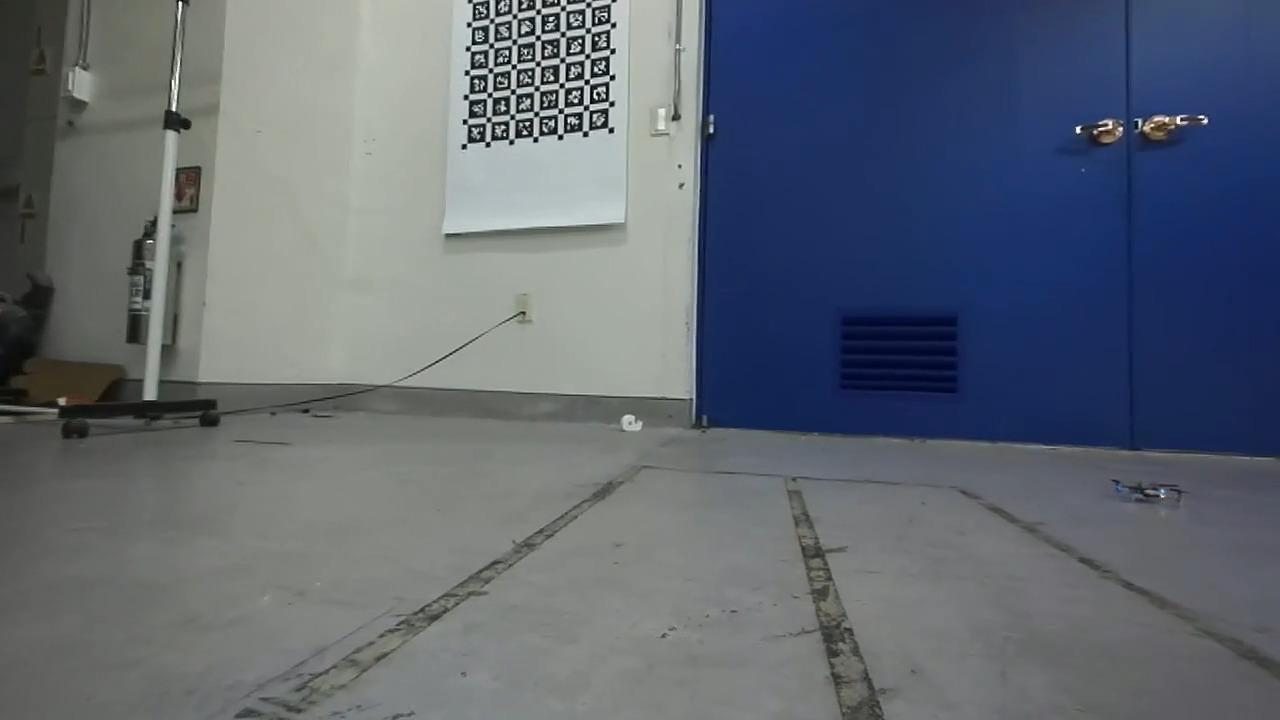crazyflie: (1105, 474, 1190, 510)
